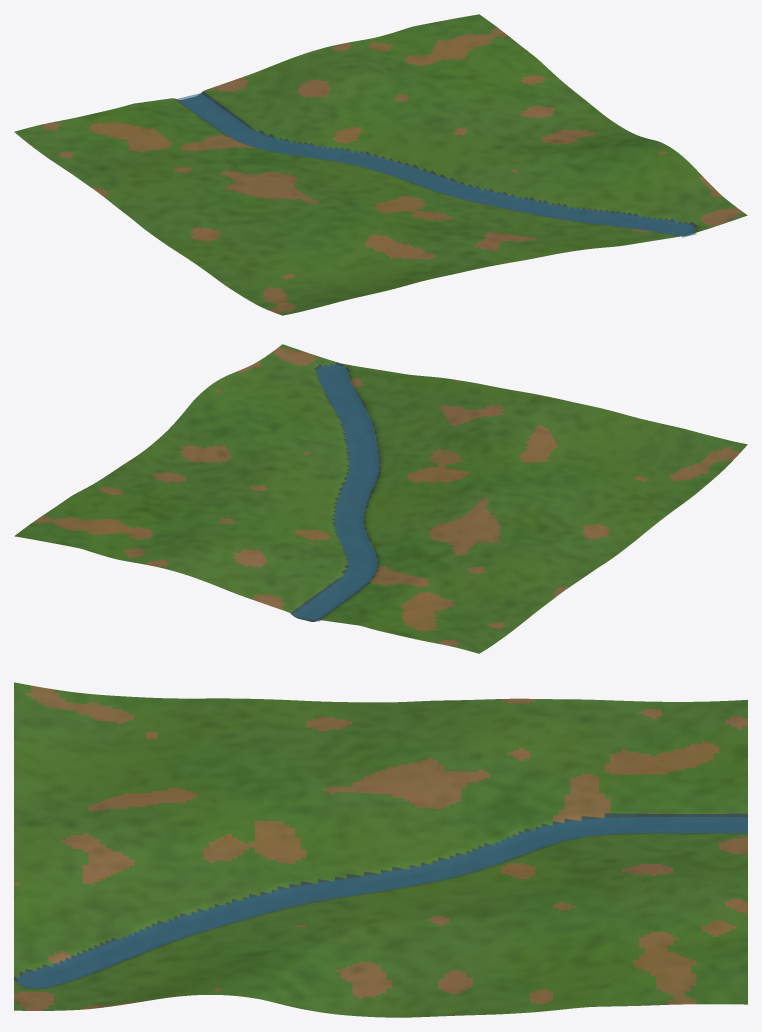
The model's file is chunk_4_7.glb.
The picture shows the model from 3 angles, top to bottom: view 1: azimuth 30°, elevation 25°; view 2: azimuth 150°, elevation 25°; view 3: azimuth 270°, elevation 25°; orthographic projection. The views are drawn at different scales.
Visible parts, largest first — view 1: Surface_Grass, Surface_Dirt, Surface_Water, Water; view 2: Surface_Grass, Surface_Dirt, Surface_Water, Water; view 3: Surface_Grass, Surface_Dirt, Surface_Water, Water.
Part boxes in pixels (x1,y1,x2,y2): Surface_Grass: (14, 14, 747, 315); Surface_Dirt: (42, 28, 743, 313); Surface_Water: (175, 91, 697, 235); Water: (176, 93, 696, 237); Surface_Grass: (14, 344, 747, 653); Surface_Dirt: (33, 347, 741, 645); Surface_Water: (290, 362, 381, 621); Water: (290, 364, 379, 621); Surface_Grass: (14, 682, 747, 1017); Surface_Dirt: (14, 685, 747, 1010); Surface_Water: (14, 813, 747, 988); Water: (17, 817, 747, 988).
Bounding box in the file's own units: 256 × 11.63 × 256.
